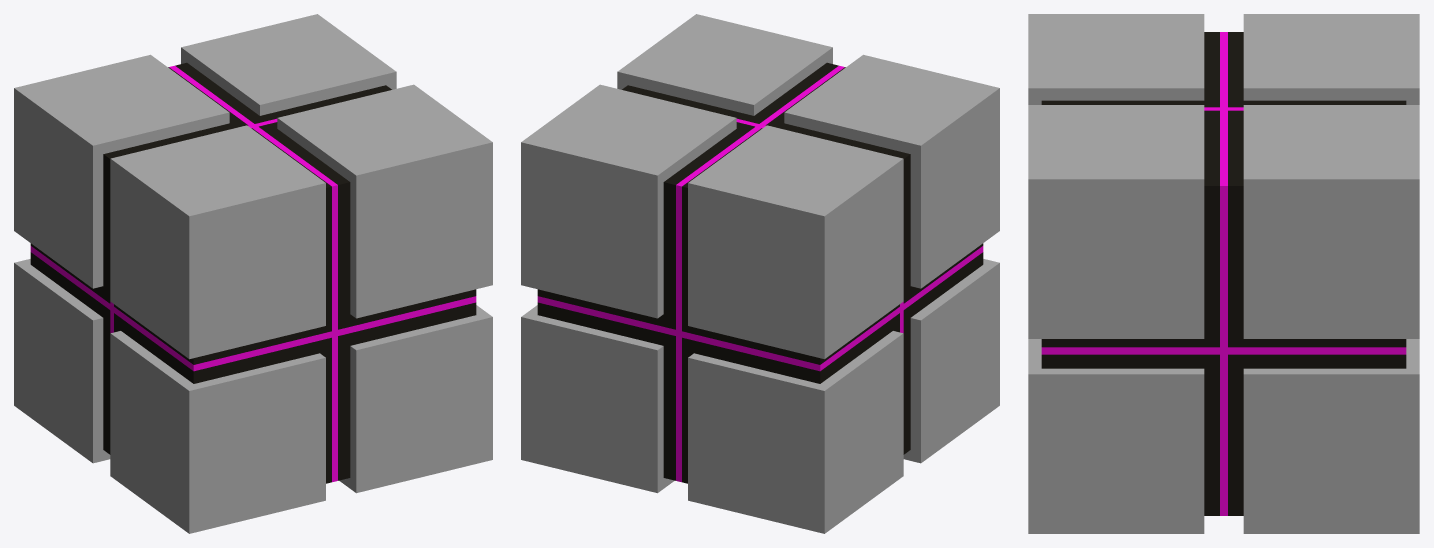
Rendered from Energy_Crate_2x2_Pink.fbx.
3 views of the same model, side by side, from view 1: azimuth 30°, elevation 25°; view 2: azimuth 150°, elevation 25°; view 3: azimuth 270°, elevation 25° (orthographic). The views are drawn at different scales.
Visible parts, largest first — view 1: Energy_Crate_2x2_Pink; view 2: Energy_Crate_2x2_Pink; view 3: Energy_Crate_2x2_Pink.
Boxes of the visible parts, x1,y1,x2,y2 form: Energy_Crate_2x2_Pink: [14, 14, 492, 533]; Energy_Crate_2x2_Pink: [521, 14, 999, 533]; Energy_Crate_2x2_Pink: [1028, 14, 1419, 533].
Bounding box in the file's own units: 200 × 200 × 200.
